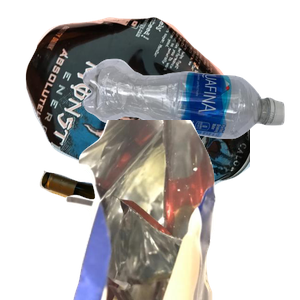glass: (37, 168, 242, 300)
metal: (23, 15, 263, 195)
plastic: (80, 56, 300, 187)
trash: (63, 120, 300, 300)
